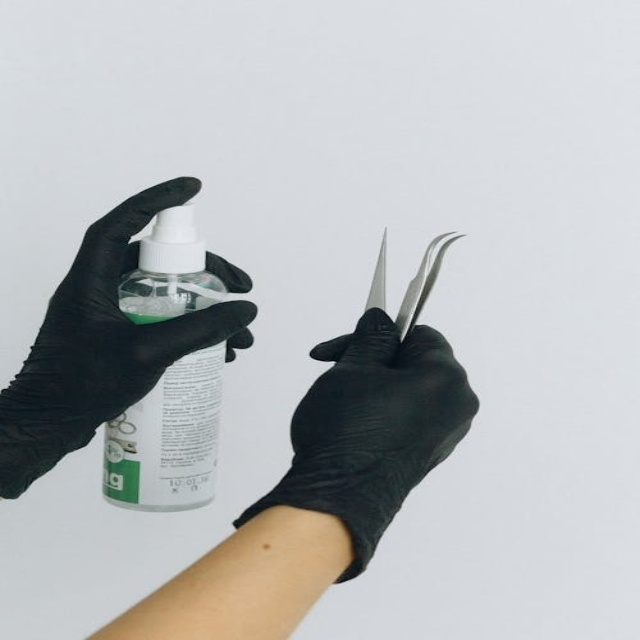Guantes: (1, 173, 261, 488), (232, 311, 486, 585)
